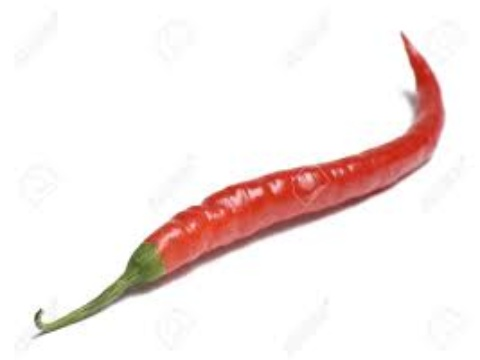Chilli: (26, 12, 453, 342)
